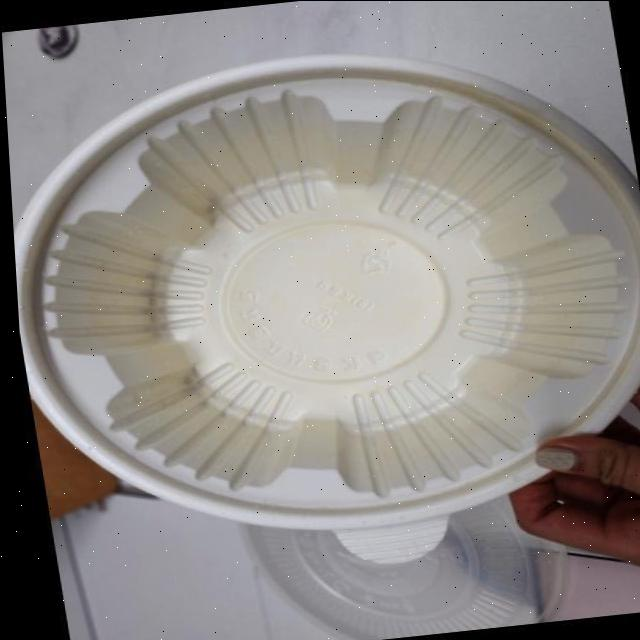disposable: (1, 14, 640, 560)
